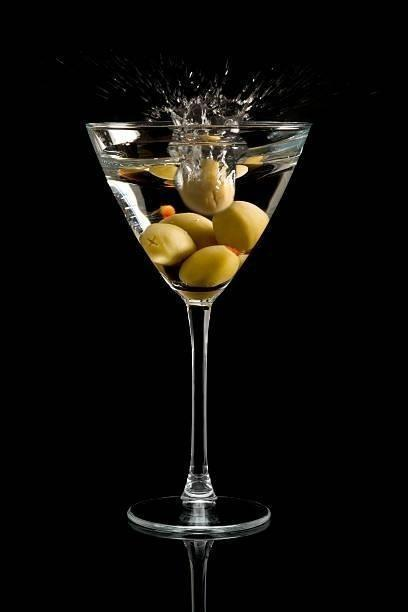glass-wine: (82, 114, 315, 540)
